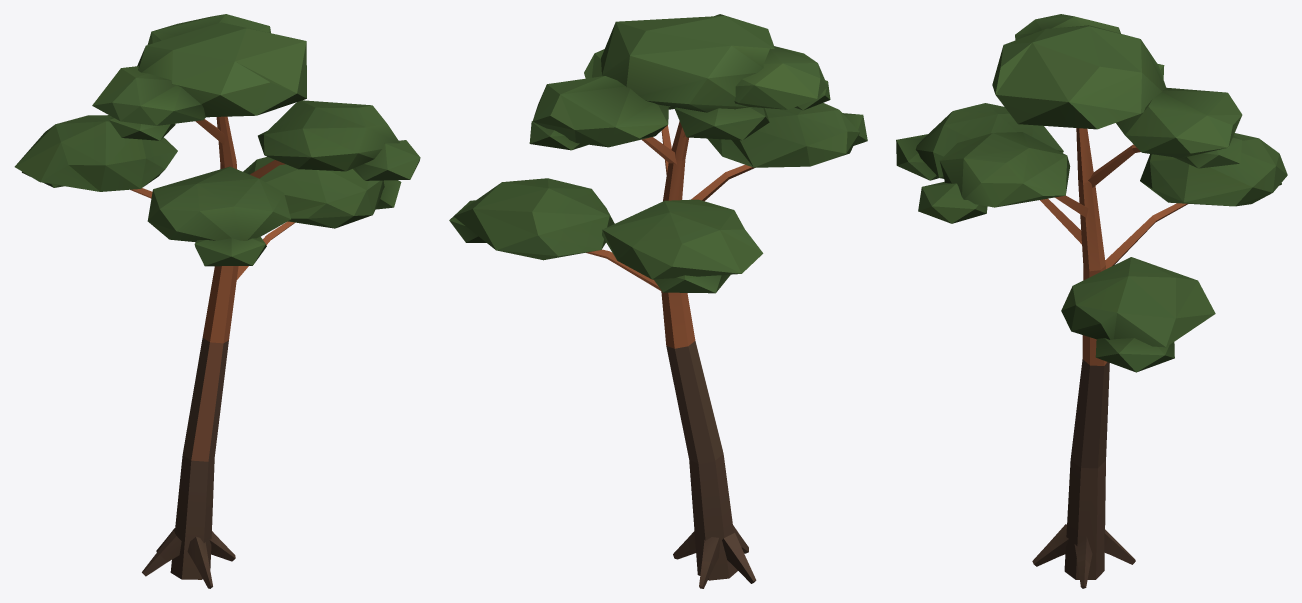
File: tree_big_pine_low.glb
3 renders of one model, left to right at view 1: azimuth 30°, elevation 25°; view 2: azimuth 150°, elevation 25°; view 3: azimuth 270°, elevation 25°, orthographic. The views are drawn at different scales.
Size of the model in its own units: 8.64 by 13.05 by 8.58.
